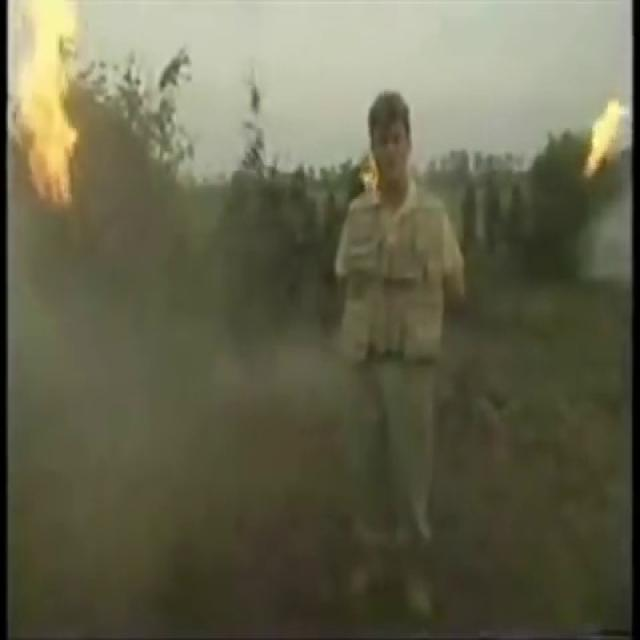Fire: (11, 0, 90, 203)
Smoke: (8, 11, 343, 638)
